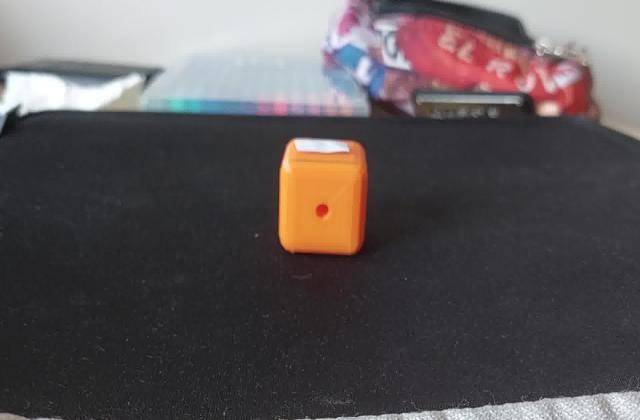cube: (274, 135, 372, 260)
